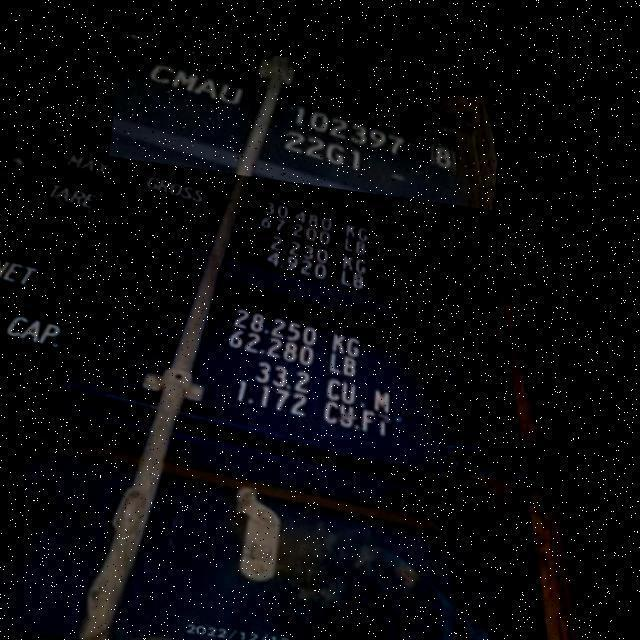container_number_h: (109, 31, 508, 202)
